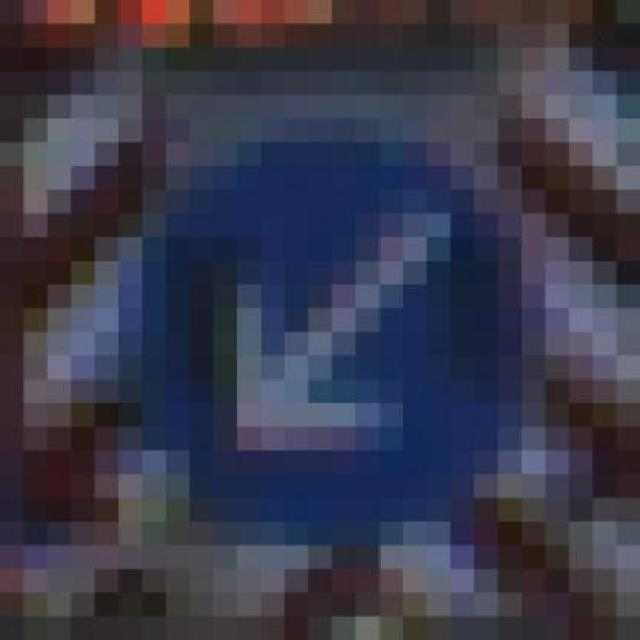Keep-Left: (94, 118, 568, 545)
